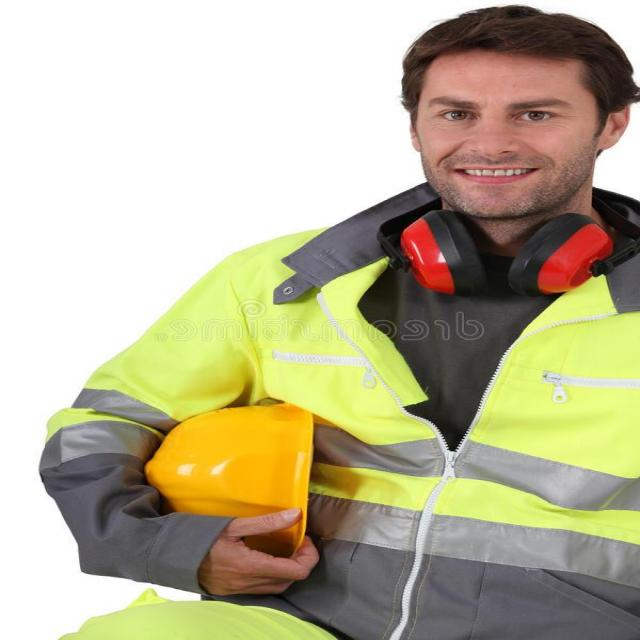Reflective-Jacket: (222, 198, 640, 640)
Safety-Helmet: (140, 404, 322, 522)
